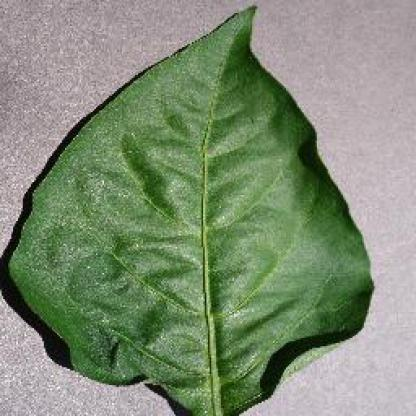good leaf: (0, 8, 382, 414), (163, 157, 374, 394), (52, 84, 298, 243), (155, 38, 303, 182)
